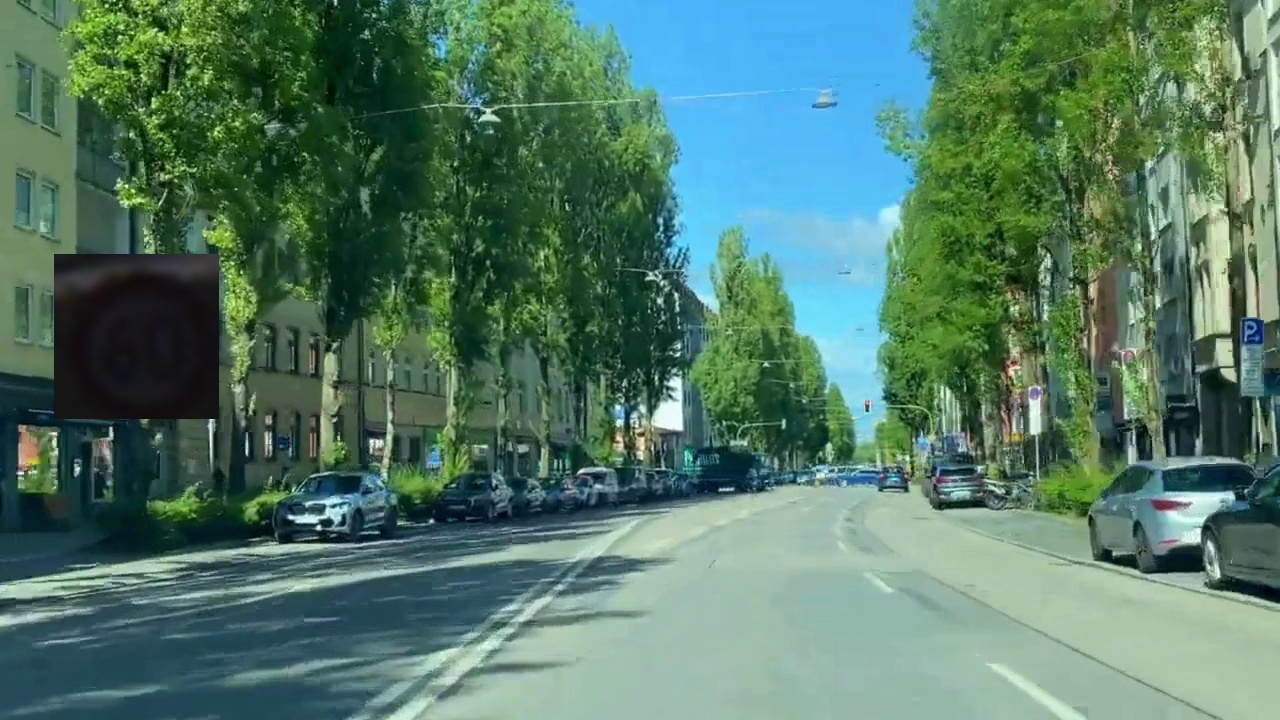Speed 60: (54, 254, 219, 419)
